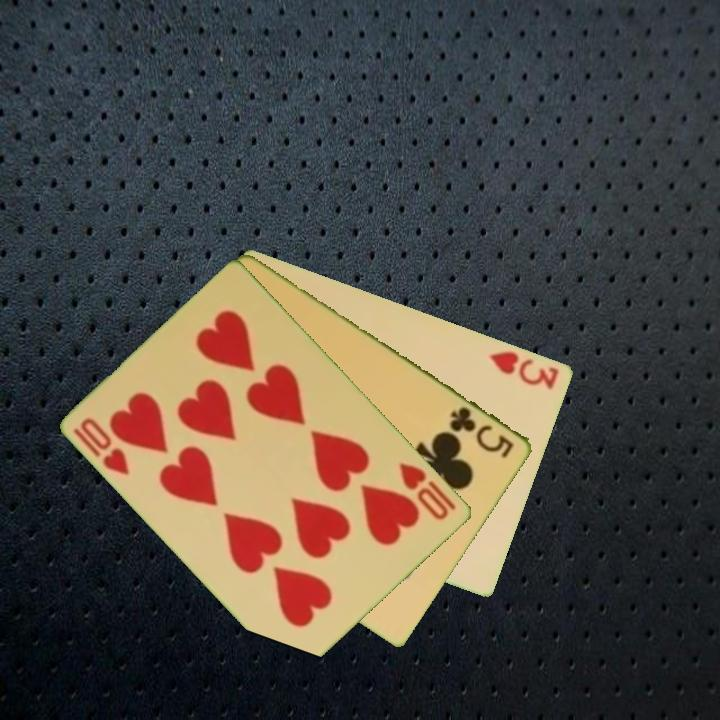10h: (70, 414, 134, 478), (396, 458, 452, 524)
3h: (485, 347, 563, 393)
5c: (446, 402, 518, 461)
